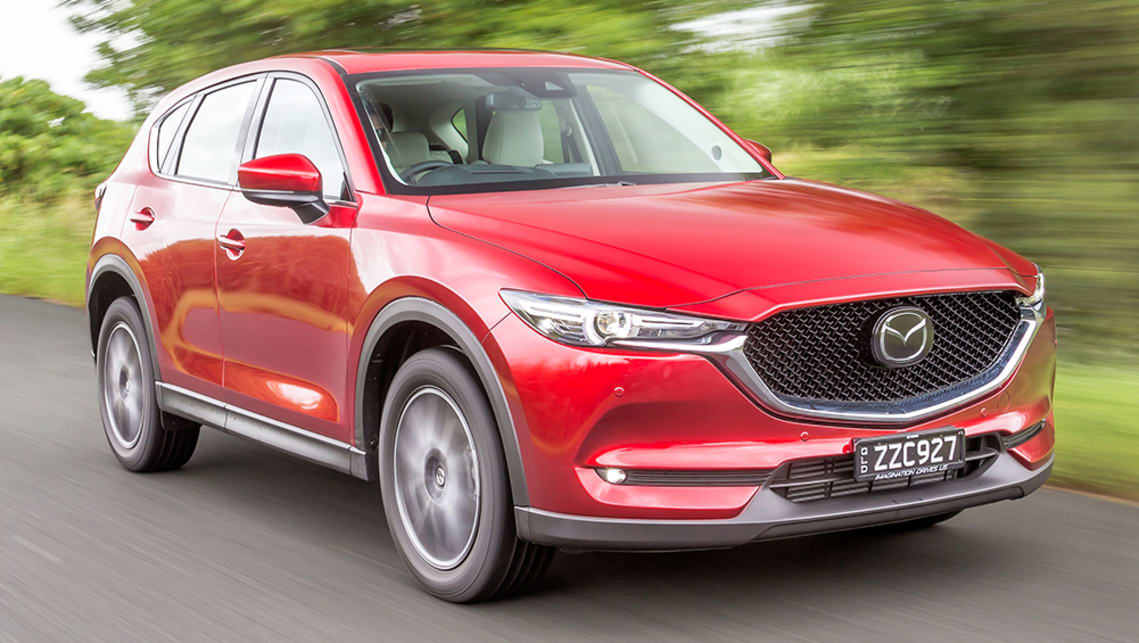car: (86, 47, 1056, 603)
